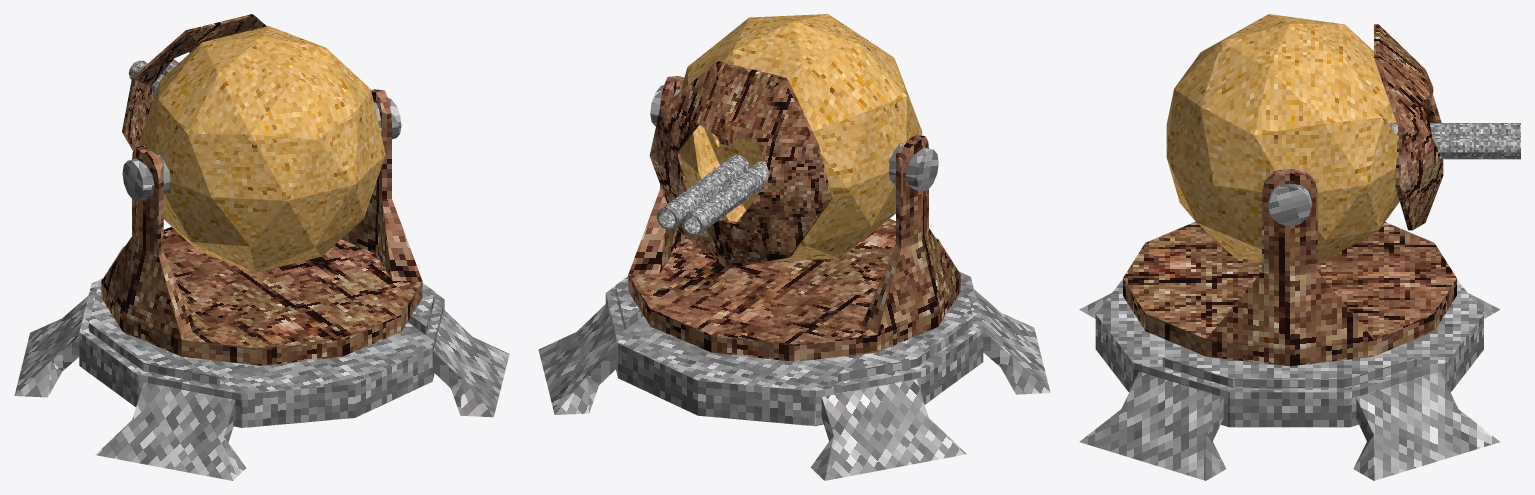
The model's file is turret.obj.
3 views of the same model, side by side, from view 1: azimuth 30°, elevation 25°; view 2: azimuth 150°, elevation 25°; view 3: azimuth 270°, elevation 25° (orthographic). The views are drawn at different scales.
Visible parts, largest first — view 1: Turret; view 2: Turret; view 3: Turret.
Part boxes in pixels (x1,y1,x2,y2): Turret: (14, 14, 509, 480); Turret: (538, 14, 1050, 480); Turret: (1079, 14, 1520, 480).
Bounding box in the file's own units: 2.56 × 2 × 2.27.
Materials: 3 (3 with a texture image).
